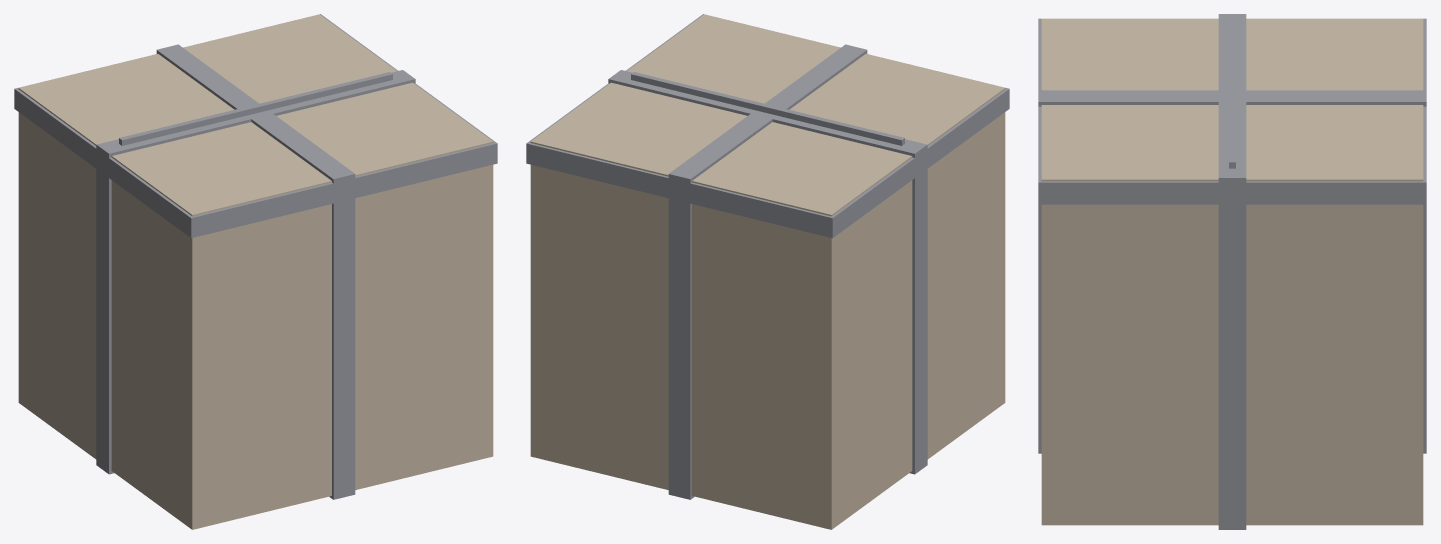
Rendered from crate_01.glb.
3 views of the same model, side by side, from view 1: azimuth 30°, elevation 25°; view 2: azimuth 150°, elevation 25°; view 3: azimuth 270°, elevation 25° (orthographic). The views are drawn at different scales.
Parts seen in each view (by area): view 1: crate_01; view 2: crate_01; view 3: crate_01.
Boxes of the visible parts, left/top/right/bottom form: crate_01: left=14, top=14, right=497, bottom=529; crate_01: left=526, top=14, right=1009, bottom=529; crate_01: left=1038, top=14, right=1426, bottom=529.
Size of the model in its own units: 0.56 by 0.57 by 0.56.
